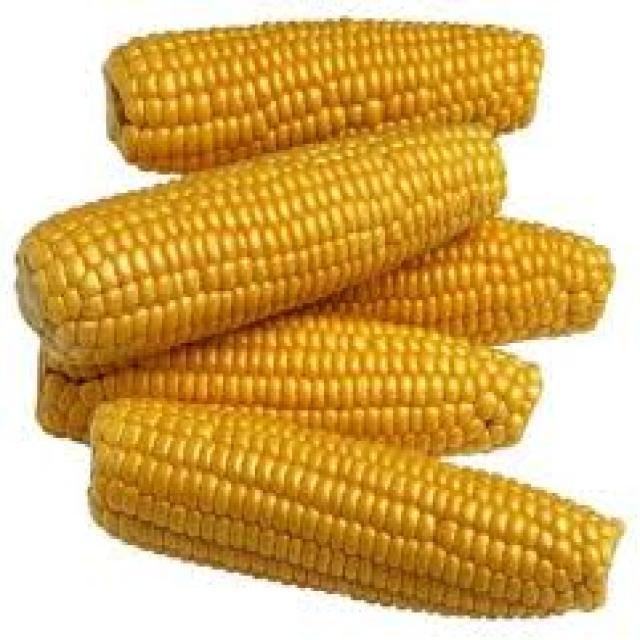Corn: (58, 380, 640, 628), (8, 156, 576, 364), (53, 9, 566, 153)
